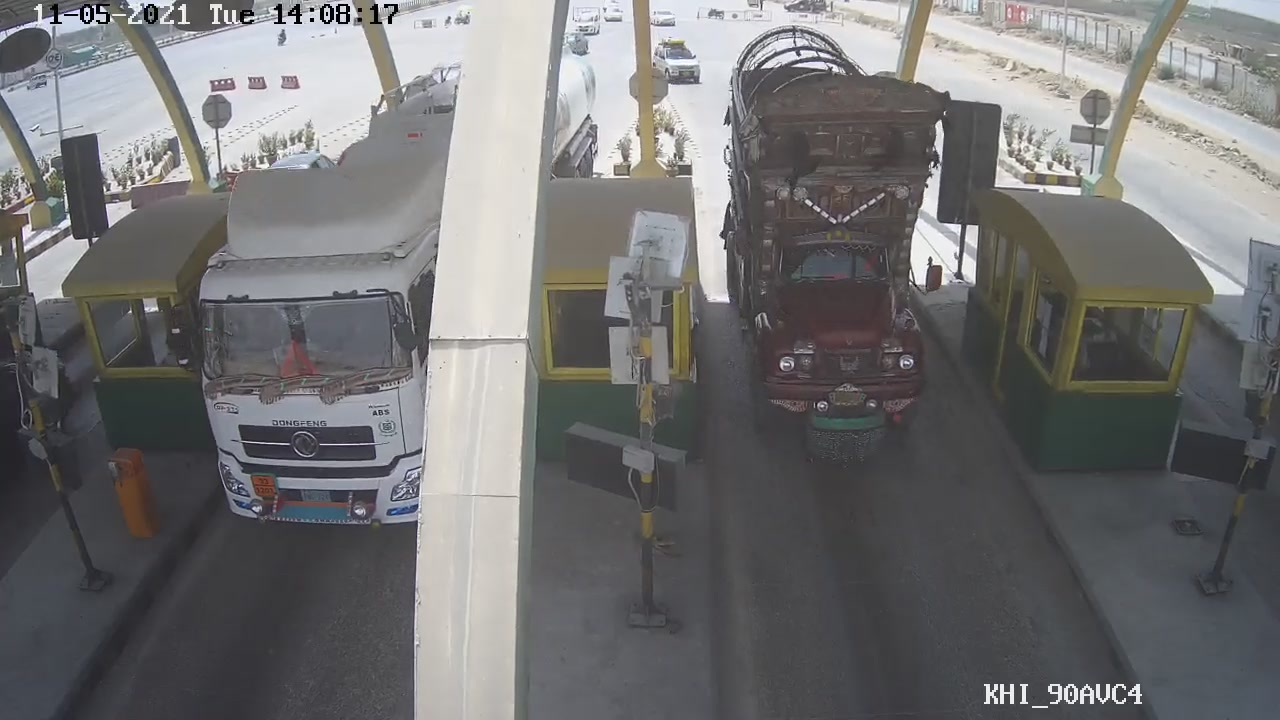F5: (704, 32, 972, 467)
